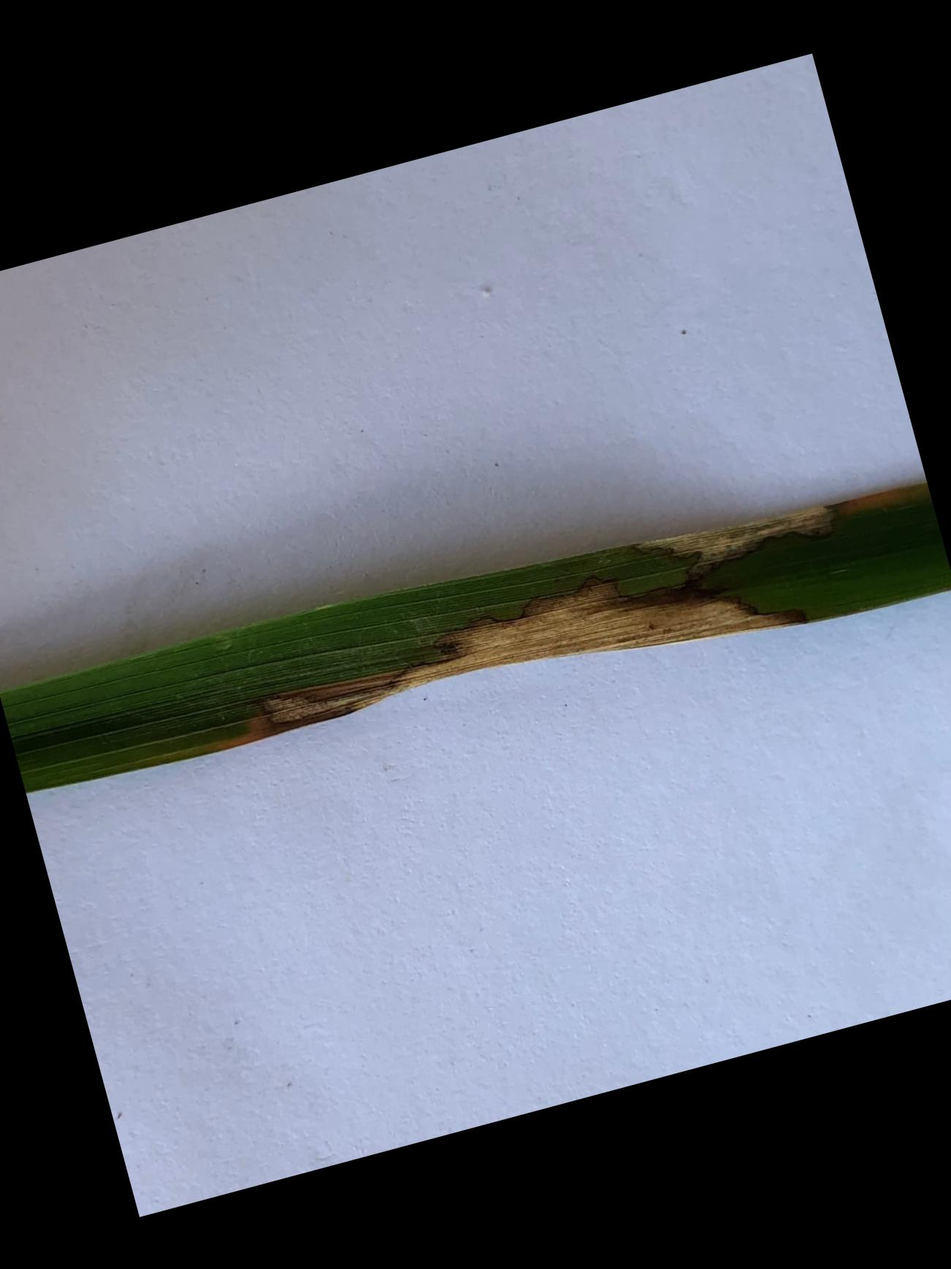Leaf Blight: (181, 575, 810, 761), (634, 483, 932, 564)
